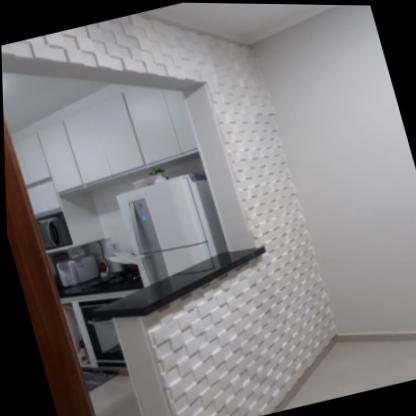Futech tiles: (165, 239, 333, 416)
